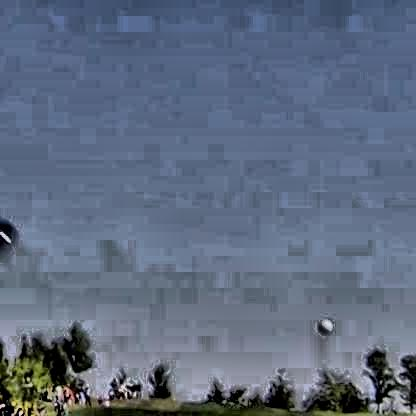golfball: (314, 315, 330, 333)
